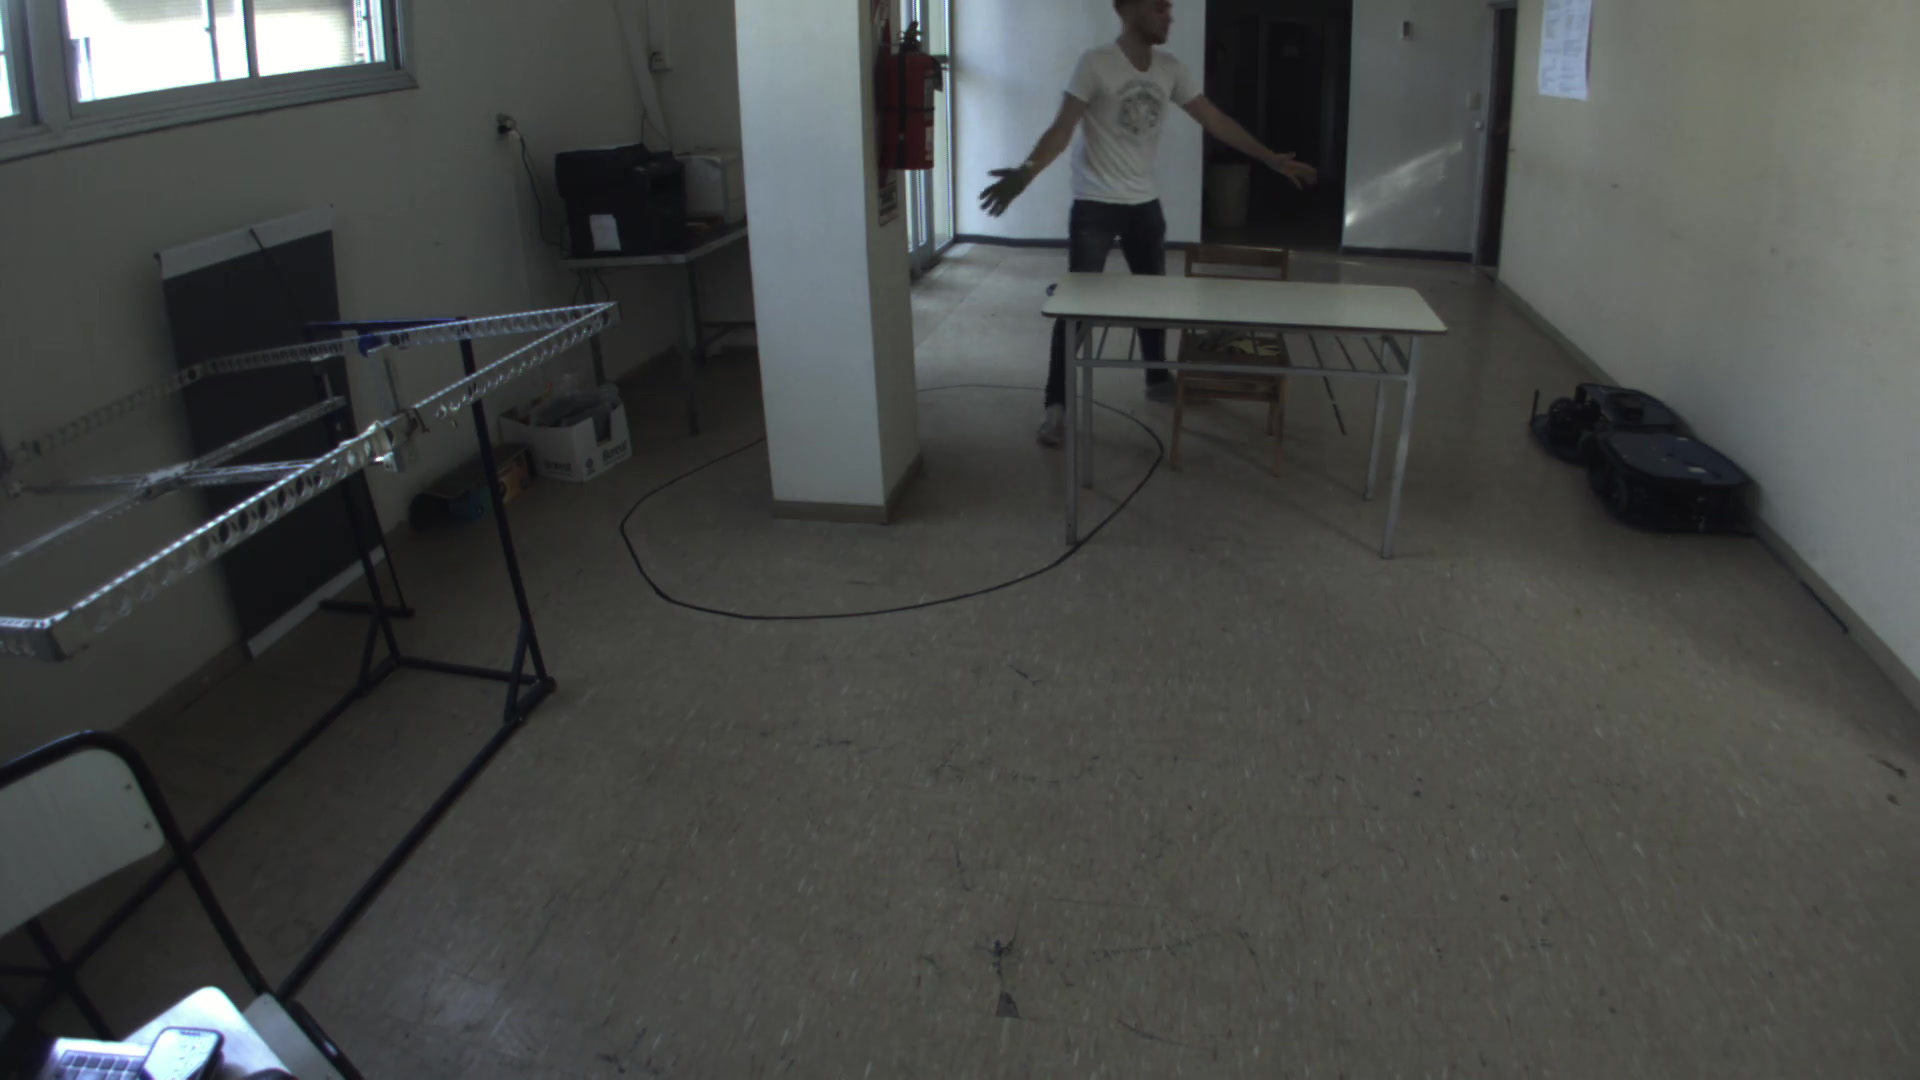hand: (976, 152, 1054, 214), (1263, 140, 1332, 193)
